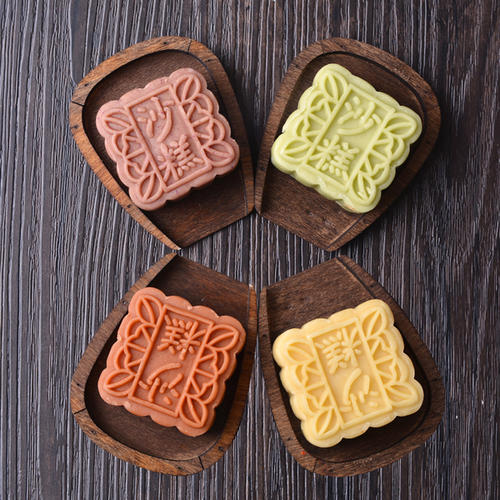MoonCake: (271, 297, 425, 447), (271, 63, 423, 213), (97, 287, 245, 437), (95, 67, 241, 211)
